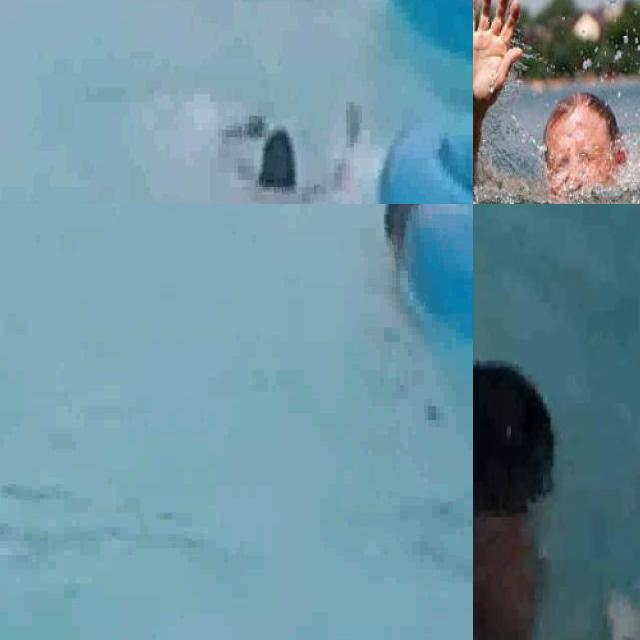drowning: (473, 0, 640, 204), (188, 58, 376, 204), (473, 384, 568, 640), (350, 204, 464, 338)
